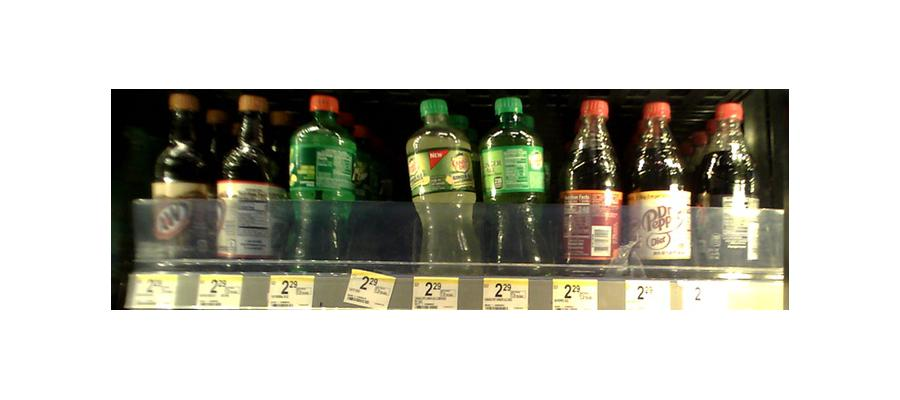bottle: (479, 97, 550, 273), (410, 100, 479, 276), (147, 92, 214, 272), (283, 93, 352, 266), (629, 94, 694, 275), (697, 96, 760, 277), (560, 95, 623, 272), (218, 96, 279, 264)
